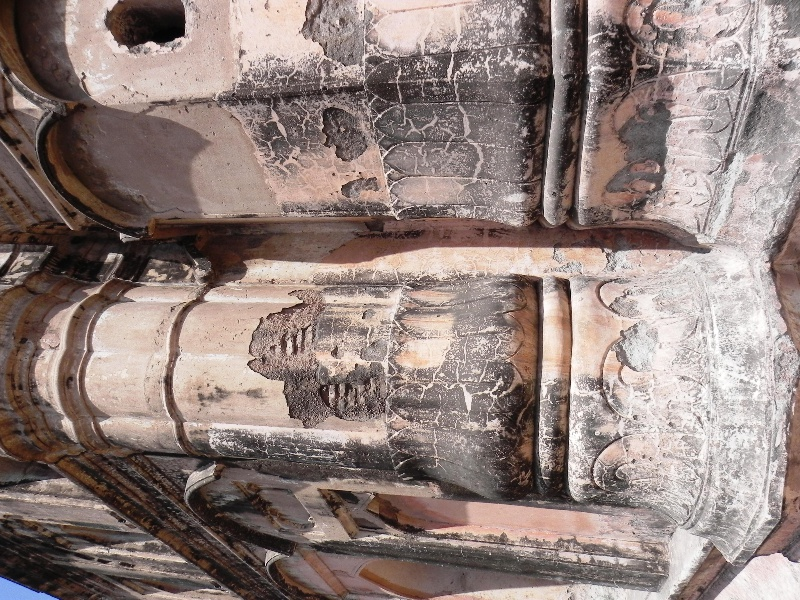Spalling: (251, 286, 387, 429), (294, 1, 363, 72), (312, 97, 375, 169)
